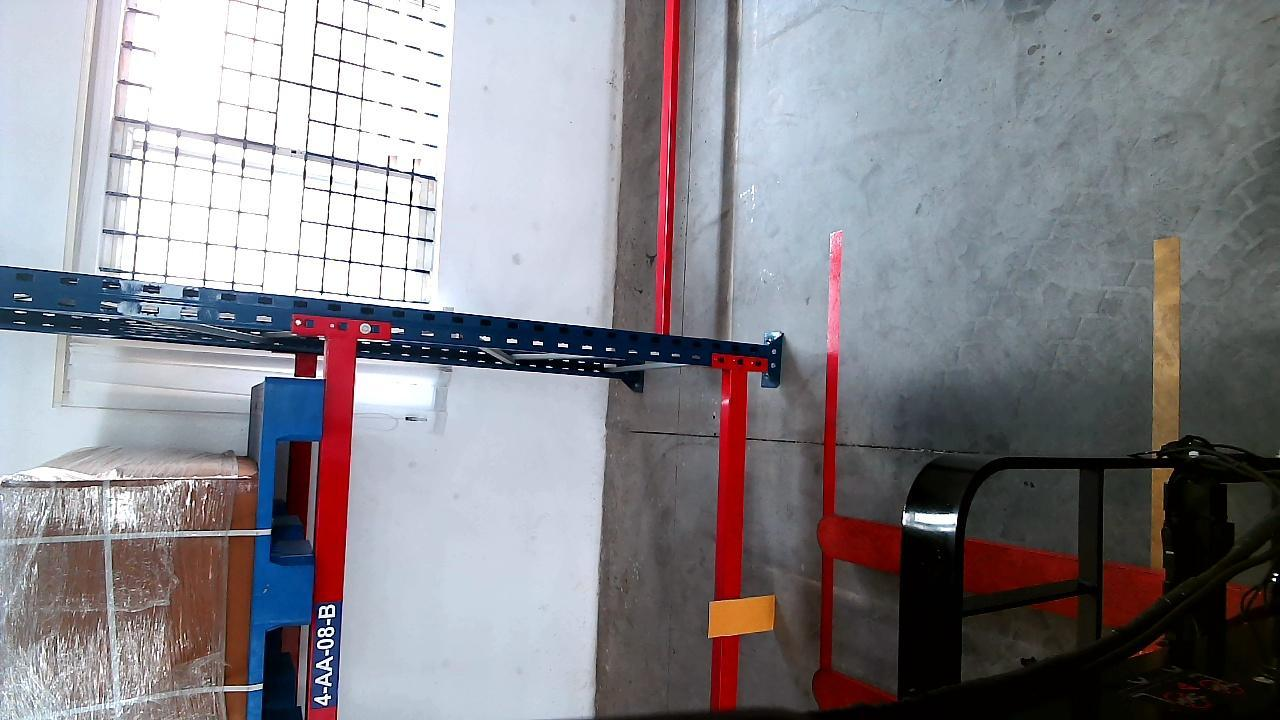red_line: (816, 231, 844, 667)
yellow_line: (1146, 223, 1180, 639)
